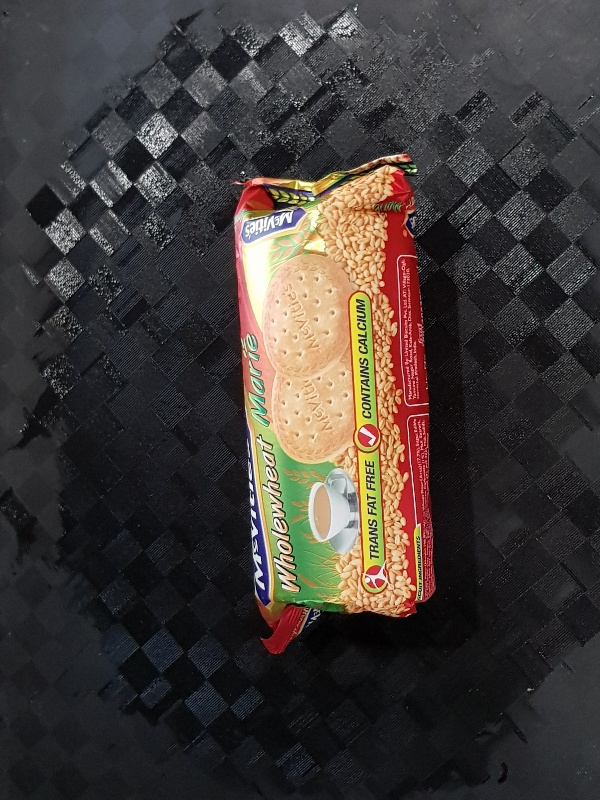McVitie's Wholewheat Marie: (230, 151, 435, 655)
